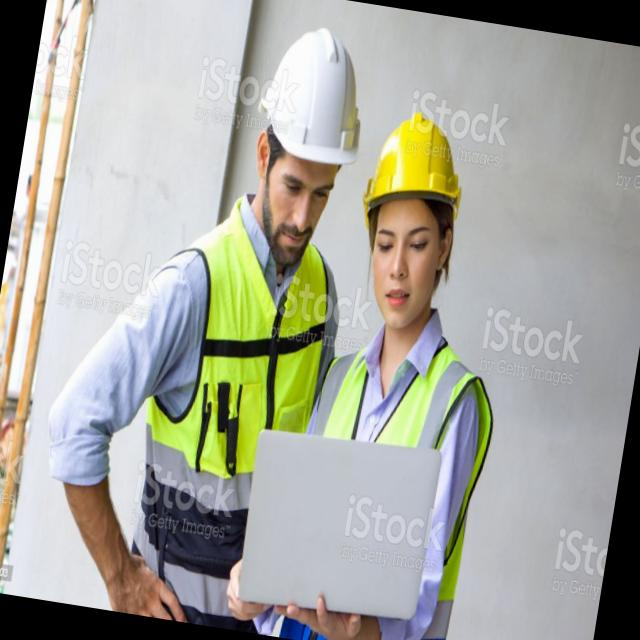helmet: (254, 14, 386, 180), (362, 99, 482, 227)
no-goggles: (369, 219, 445, 268), (278, 163, 344, 202)
vest: (130, 182, 342, 491), (300, 332, 501, 586)
